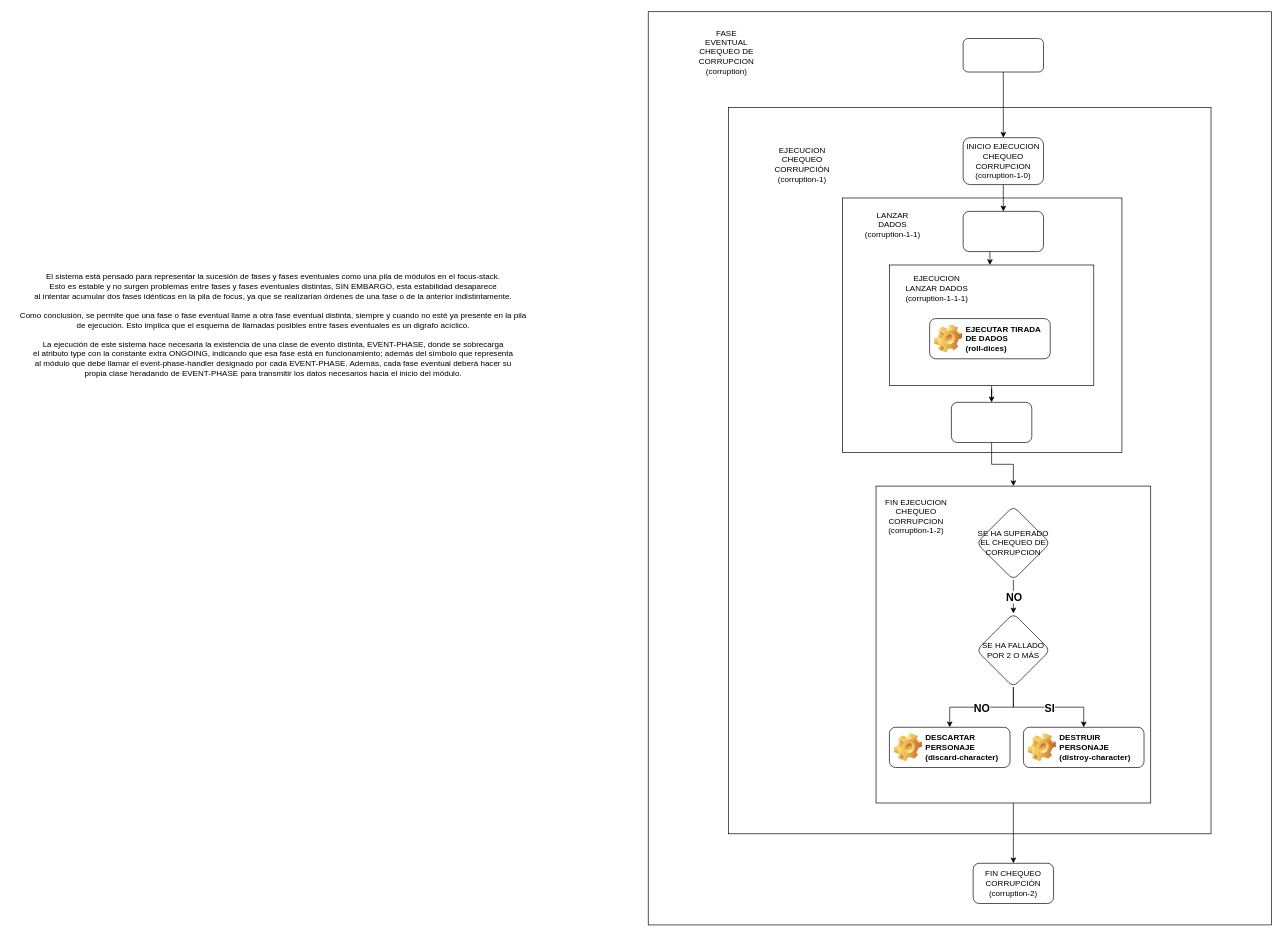
The diagram is 1283 pixels wide and 937 high, and some of its shapes have lost their labels. The shapes that lost their labels are listed below. From the top down, each one's centre as x and y in pixels, then its label:
pixel 1003 55: INICIO CHEQUEO CORRUPCION (corruption-0)
pixel 1003 231: INICIO LANZAR DADOS (corruption-1-1-0)
pixel 991 422: FIN LANZAR DADOS (corruption-1-1-2)
